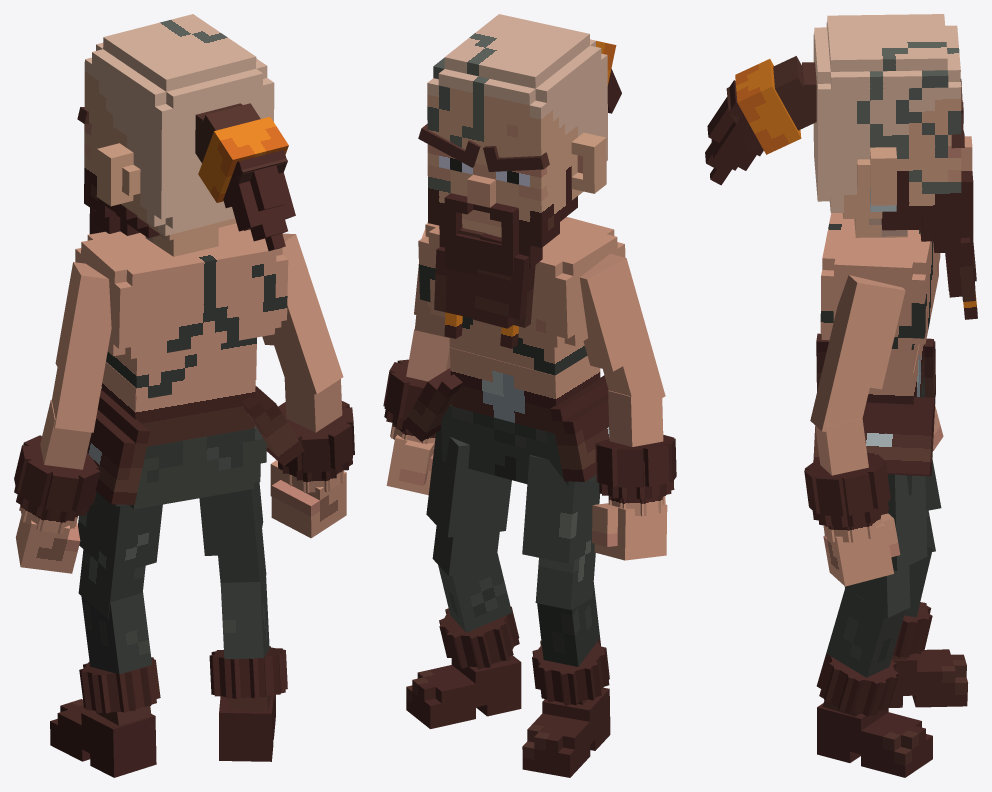
Rendered from male-d1.static.glb.
The picture shows the model from 3 angles, left to right: view 1: azimuth 30°, elevation 25°; view 2: azimuth 150°, elevation 25°; view 3: azimuth 270°, elevation 25°; orthographic projection. The views are drawn at different scales.
Visible parts, largest first — view 1: Head-Local, Chest-Local, Hip-Local, Left_Arm-Local, Left_Thigh-Local, Left_Leg-Local, Belly-Local, Right_Arm-Local, Right_Leg-Local, Left_Foot-Local, Right_Thigh-Local, L$$hip-Local (+15 smaller); view 2: Head-Local, Chest-Local, Left_Thigh-Local, Right_Thigh-Local, Left_Arm-Local, Belly-Local, Right_Foot-Local, Hip-Local, Left_Foot-Local, Right_Leg-Local, Left_Leg-Local, L$$hip-Local (+17 smaller); view 3: Head-Local, Chest-Local, Right_Arm-Local, Right_Leg-Local, Right_Foot-Local, R$$hip (1)-Local, Right_Thigh-Local, Left_Foot-Local, Moñiota-Local, Right_Hand-Local, Cola$$de caballo 2-Local, Right_Forearm-Local (+12 smaller).
Boxes of the visible parts, left/top/right/bottom form: Head-Local: left=84, top=14, right=274, bottom=256; Chest-Local: left=75, top=223, right=288, bottom=400; Hip-Local: left=114, top=426, right=266, bottom=509; Left_Arm-Local: left=51, top=262, right=111, bottom=432; Left_Thigh-Local: left=78, top=492, right=162, bottom=619; Left_Leg-Local: left=79, top=592, right=160, bottom=726; Belly-Local: left=101, top=362, right=255, bottom=446; Right_Arm-Local: left=262, top=233, right=343, bottom=394; Right_Leg-Local: left=212, top=570, right=282, bottom=711; Left_Foot-Local: left=50, top=699, right=156, bottom=777; Right_Thigh-Local: left=199, top=482, right=266, bottom=582; L$$hip-Local: left=87, top=388, right=149, bottom=504; Head-Local: left=427, top=14, right=607, bottom=276; Chest-Local: left=418, top=217, right=625, bottom=375; Left_Thigh-Local: left=522, top=455, right=600, bottom=609; Right_Thigh-Local: left=426, top=427, right=511, bottom=575; Left_Arm-Local: left=579, top=253, right=665, bottom=397; Belly-Local: left=450, top=347, right=600, bottom=433; Right_Foot-Local: left=406, top=655, right=521, bottom=728; Hip-Local: left=441, top=405, right=596, bottom=485; Left_Foot-Local: left=522, top=687, right=610, bottom=777; Right_Leg-Local: left=438, top=553, right=519, bottom=669; Left_Leg-Local: left=532, top=582, right=609, bottom=705; L$$hip-Local: left=550, top=375, right=609, bottom=481; Head-Local: left=802, top=14, right=973, bottom=252; Chest-Local: left=820, top=213, right=940, bottom=384; Right_Arm-Local: left=810, top=275, right=905, bottom=431; Right_Leg-Local: left=816, top=588, right=905, bottom=716; Right_Foot-Local: left=817, top=703, right=932, bottom=777; R$$hip (1)-Local: left=813, top=397, right=935, bottom=476; Right_Thigh-Local: left=844, top=474, right=927, bottom=618; Left_Foot-Local: left=888, top=649, right=967, bottom=707; Moñiota-Local: left=735, top=59, right=801, bottom=154; Right_Hand-Local: left=823, top=513, right=900, bottom=586; Cola$$de caballo 2-Local: left=705, top=80, right=763, bottom=185; Right_Forearm-Local: left=815, top=418, right=868, bottom=475.
Bounding box in the file's own units: 27.19 × 58.64 × 20.96.
Materials: 39 (39 with a texture image).
